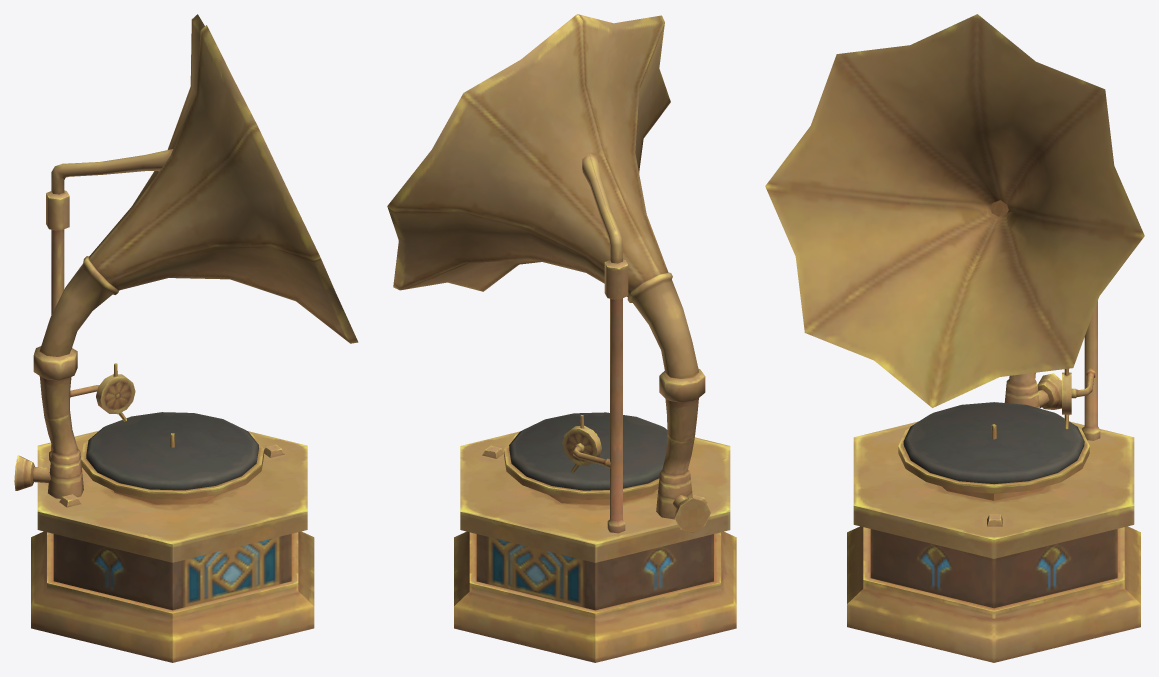
The model's file is Homeworld_Interior_Fd_Decoration_Prop_Gramophone_01_Lod0.fbx.
3 renders of one model, left to right at view 1: azimuth 30°, elevation 25°; view 2: azimuth 150°, elevation 25°; view 3: azimuth 270°, elevation 25°, orthographic. The views are drawn at different scales.
Parts seen in each view (by area): view 1: Indoor_Fd_Prop_Gramophone_A_01_Lod0; view 2: Indoor_Fd_Prop_Gramophone_A_01_Lod0; view 3: Indoor_Fd_Prop_Gramophone_A_01_Lod0.
Boxes of the visible parts, x1=… form: Indoor_Fd_Prop_Gramophone_A_01_Lod0: x1=14, y1=14, x2=358, y2=662; Indoor_Fd_Prop_Gramophone_A_01_Lod0: x1=387, y1=14, x2=736, y2=662; Indoor_Fd_Prop_Gramophone_A_01_Lod0: x1=765, y1=14, x2=1144, y2=662.
Size of the model in its own units: 0.988 by 1.75 by 1.02.
1 material, 1 textured.
